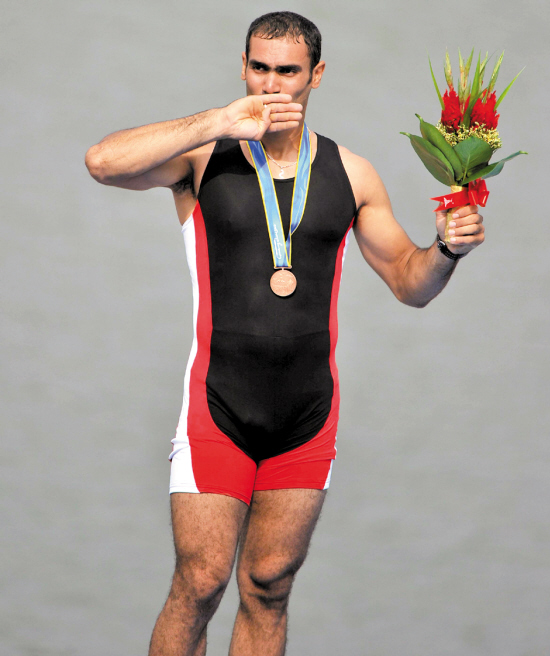face_mask: (248, 34, 309, 124)
